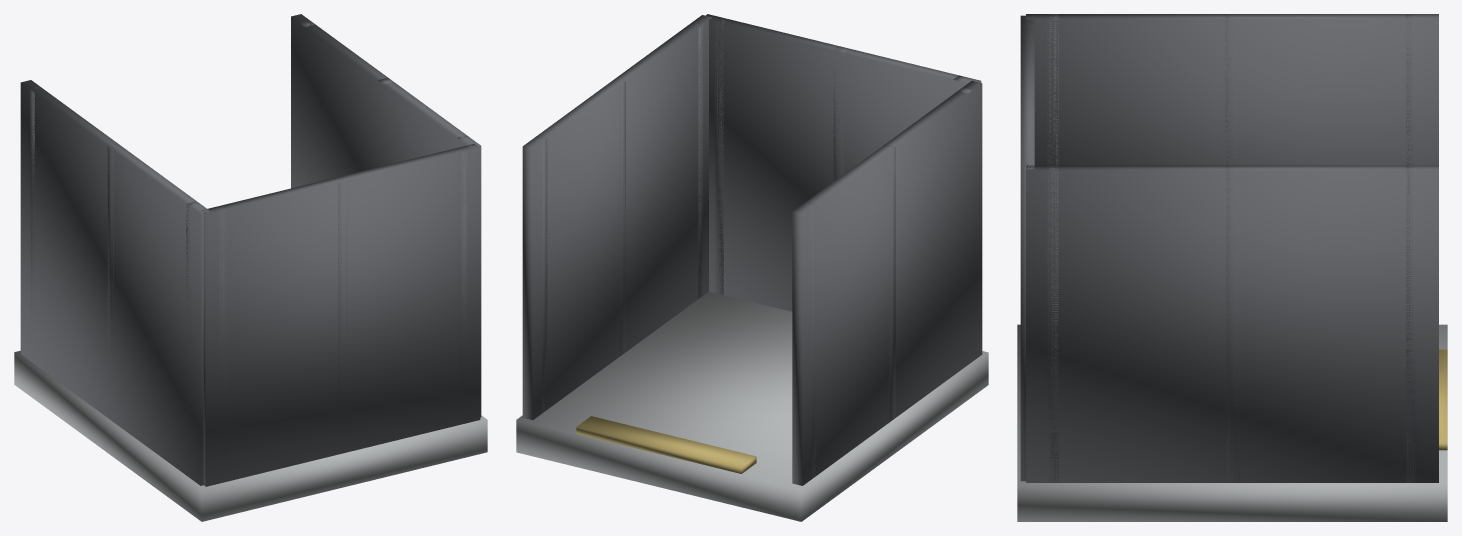
Rendered from landing_industrial_w110_d125_door.glb.
3 views of the same model, side by side, from view 1: azimuth 30°, elevation 25°; view 2: azimuth 150°, elevation 25°; view 3: azimuth 270°, elevation 25° (orthographic). The views are drawn at different scales.
Visible parts, largest first — view 1: world; view 2: world; view 3: world.
Boxes of the visible parts, x1=… form: world: x1=14, y1=14, x2=487, y2=521; world: x1=516, y1=14, x2=988, y2=521; world: x1=1017, y1=14, x2=1447, y2=521.
Bounding box in the file's own units: 1.1 × 1.12 × 1.25.
